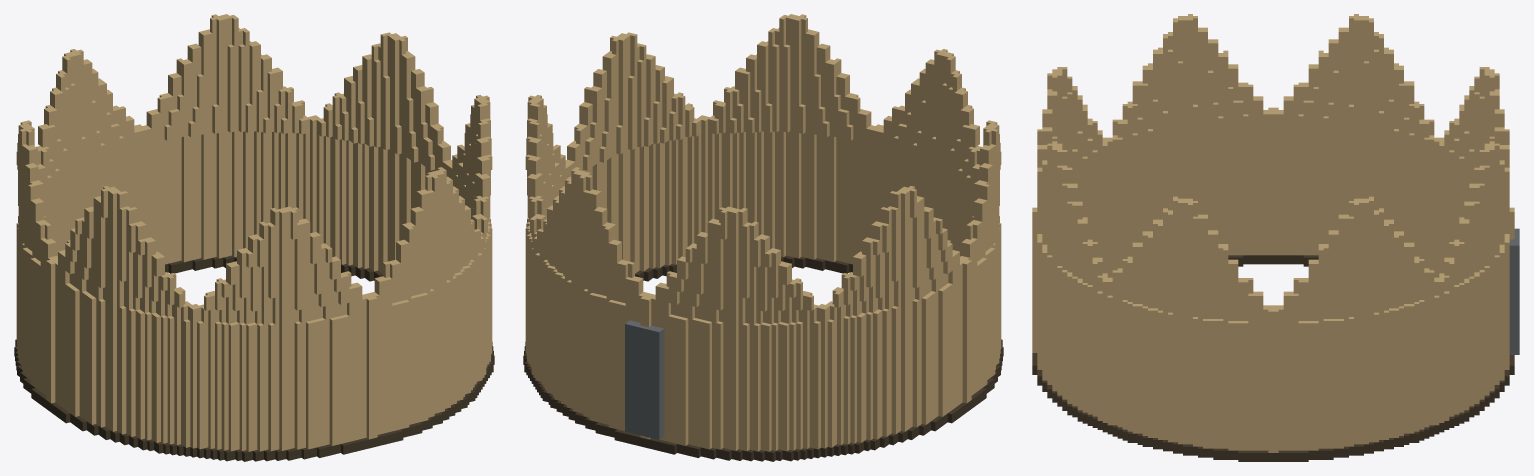
File: cardboard_crown.glb
The picture shows the model from 3 angles, left to right: view 1: azimuth 30°, elevation 25°; view 2: azimuth 150°, elevation 25°; view 3: azimuth 270°, elevation 25°; orthographic projection.
Visible parts, largest first — view 1: cardboard_crown:compound; view 2: cardboard_crown:compound; view 3: cardboard_crown:compound.
Boxes of the visible parts, bbox=[...] form: cardboard_crown:compound: bbox=[14, 14, 494, 461]; cardboard_crown:compound: bbox=[523, 14, 1003, 461]; cardboard_crown:compound: bbox=[1032, 14, 1519, 461].
Size of the model in its own units: 0.192 by 0.11 by 0.194.
